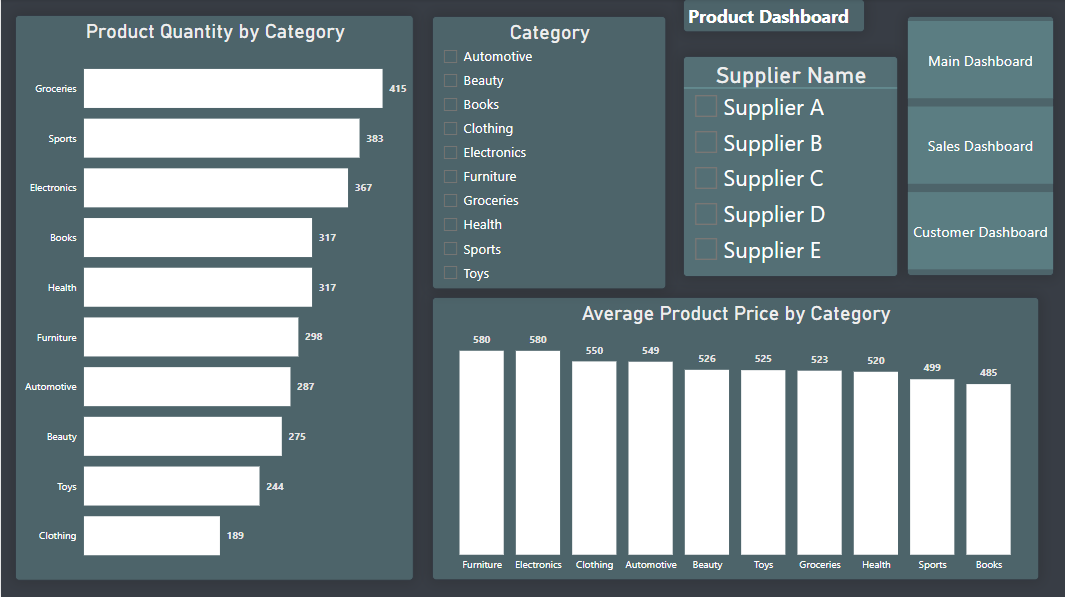

Layout of this report page (visuals, bound fields, positions):
{"tool":"powerbi","page":{"name":"Products Dashboard","canvas":[1280,720],"ordinal":3},"visuals":[{"type":"textbox","box":[821.7,0,218.8,39.9],"z":0},{"type":"clusteredBarChart","title":"Product Quantity by Category","fields":{"Category":["products.category"],"Y":["Sum(sales.quantity)"]},"box":[16.5,19.3,480.3,681.3],"z":1000},{"type":"clusteredColumnChart","title":"Average Product Price by Category","fields":{"Category":["products.category"],"Y":["products.Average Product Price"]},"box":[518.9,359.2,730.8,341.3],"z":2000},{"type":"slicer","title":"Category","fields":{"Values":["products.category"]},"box":[518.9,20.6,282.2,328.9],"z":3000},{"type":"slicer","title":"Supplier Name","fields":{"Values":["inventory.supplier_name"]},"box":[821.7,68.8,258.8,265.6],"z":4000},{"type":"pageNavigator","box":[1090.5,21,177.4,312.7],"z":4001}]}

Visuals, with their boxes in screenshot pixels (x1, y1, x2, y2), scaled from the page's 1280x720 canvas onto the 1065x597 screenshot:
textbox: x1=684, y1=0, x2=866, y2=33
"Product Quantity by Category" clusteredBarChart: x1=14, y1=16, x2=413, y2=581
"Average Product Price by Category" clusteredColumnChart: x1=432, y1=298, x2=1040, y2=581
"Category" slicer: x1=432, y1=17, x2=667, y2=290
"Supplier Name" slicer: x1=684, y1=57, x2=899, y2=277
pageNavigator: x1=907, y1=17, x2=1055, y2=277
